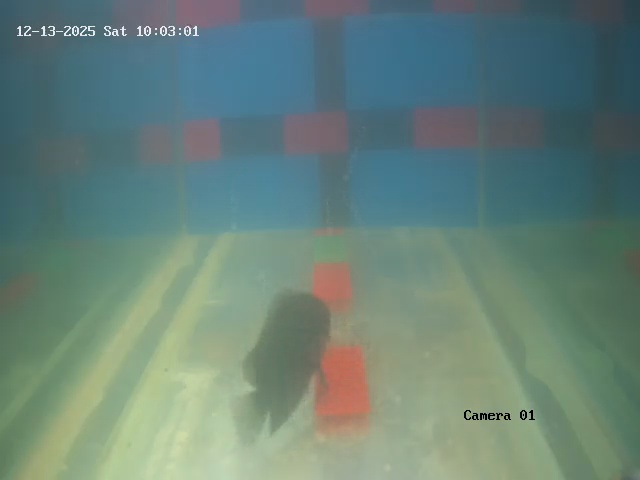fish: (237, 291, 334, 401)
